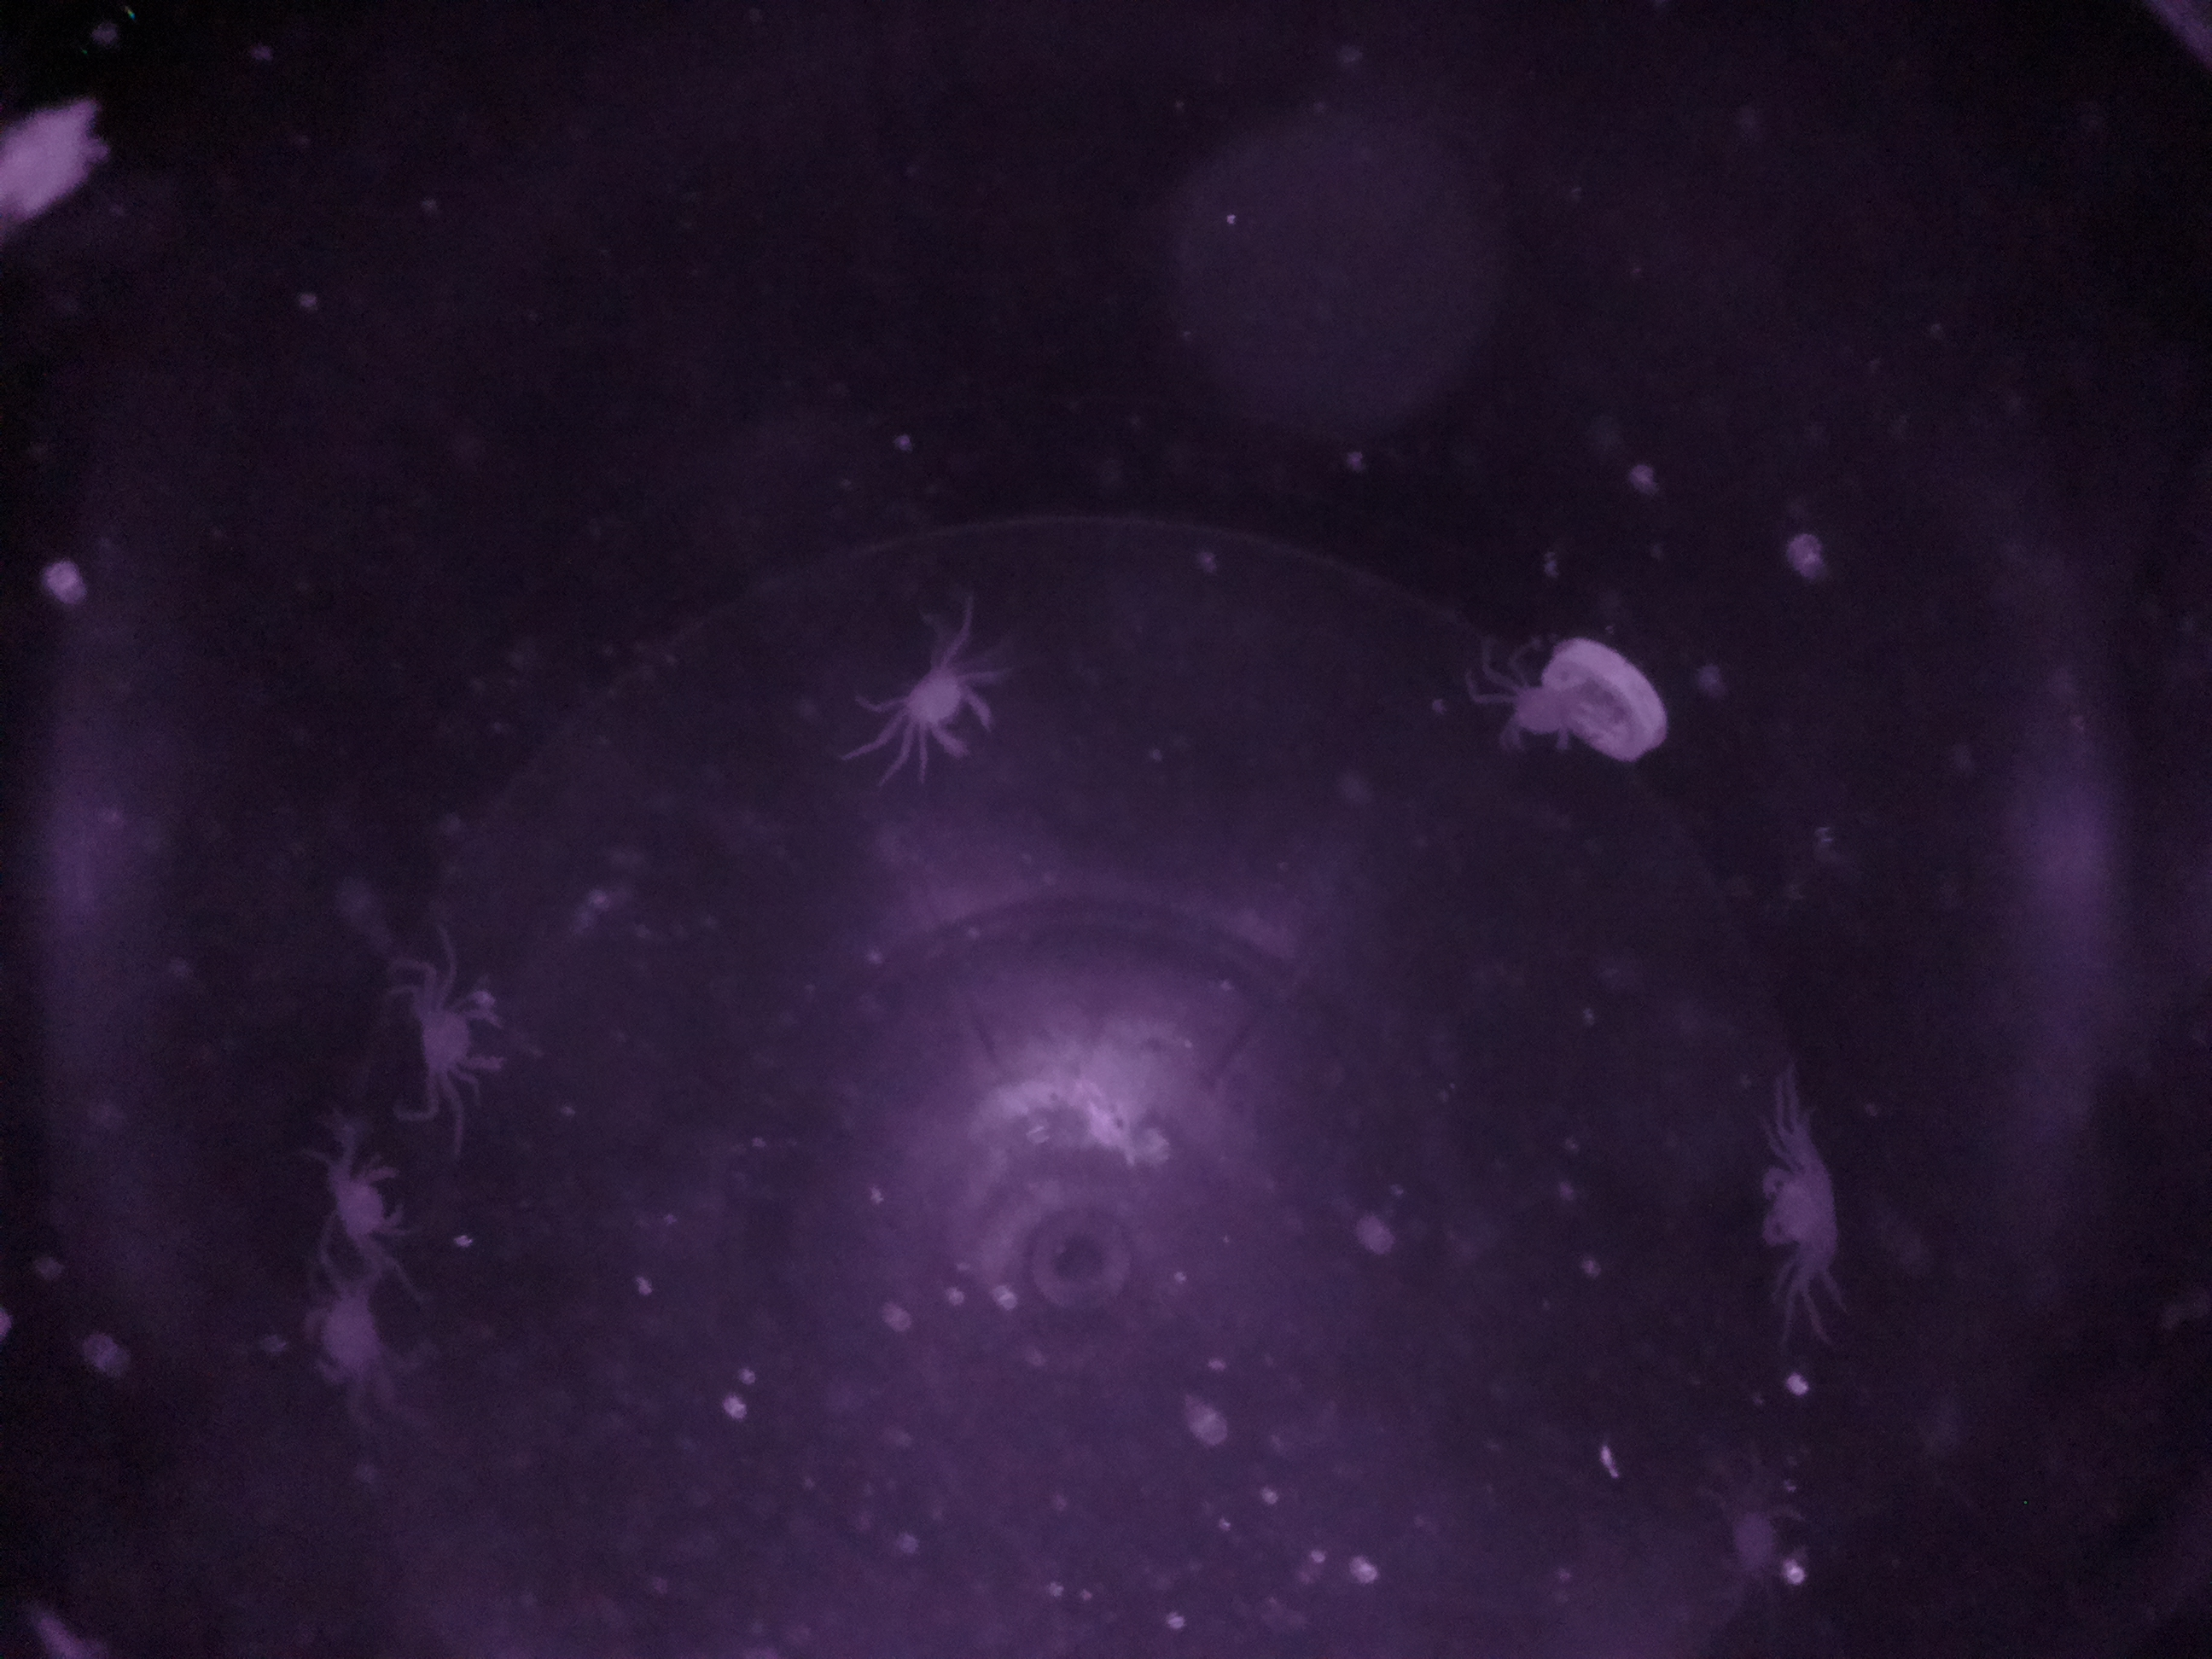Crab: (383, 986, 529, 1105), (1738, 1141, 1862, 1281), (892, 638, 1007, 775), (319, 1141, 442, 1253)
